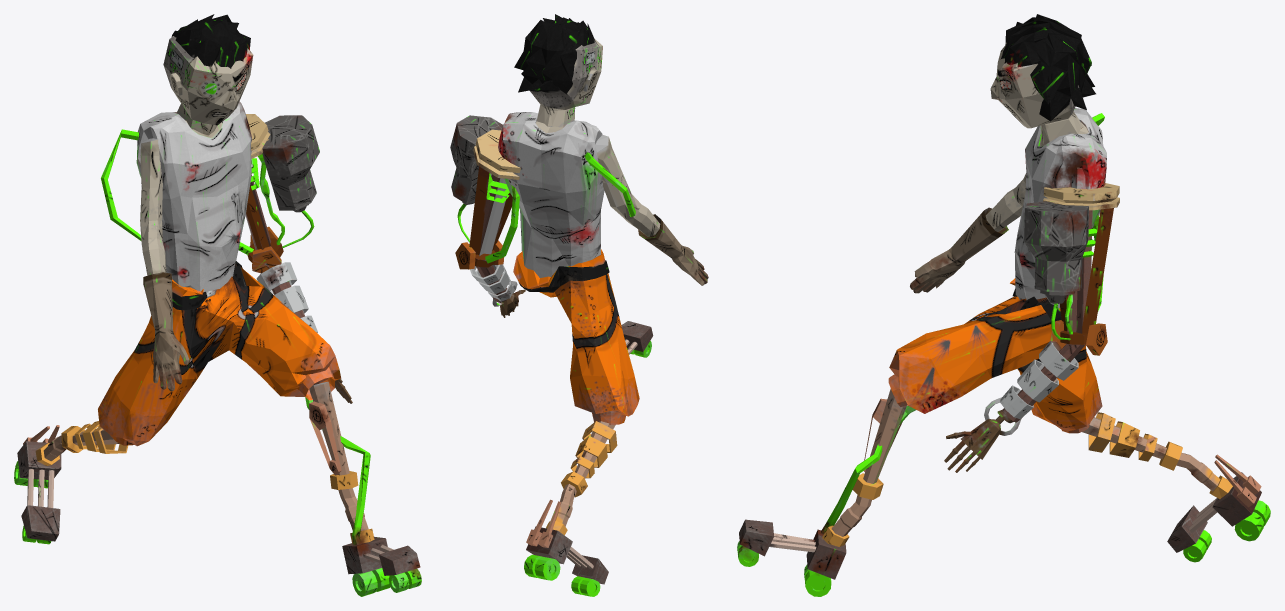
File: CyborgFINALAnimation_000003.obj
3 views of the same model, side by side, from view 1: azimuth 30°, elevation 25°; view 2: azimuth 150°, elevation 25°; view 3: azimuth 270°, elevation 25° (orthographic). The views are drawn at different scales.
Visible parts, largest first — view 1: CyborgMesh_Cube.002; view 2: CyborgMesh_Cube.002; view 3: CyborgMesh_Cube.002.
Part boxes in pixels (x1=…): CyborgMesh_Cube.002: x1=14, y1=14, x2=421, y2=596; CyborgMesh_Cube.002: x1=450, y1=14, x2=708, y2=596; CyborgMesh_Cube.002: x1=737, y1=14, x2=1270, y2=596.
Size of the model in its own units: 3.78 by 8.88 by 7.29.
